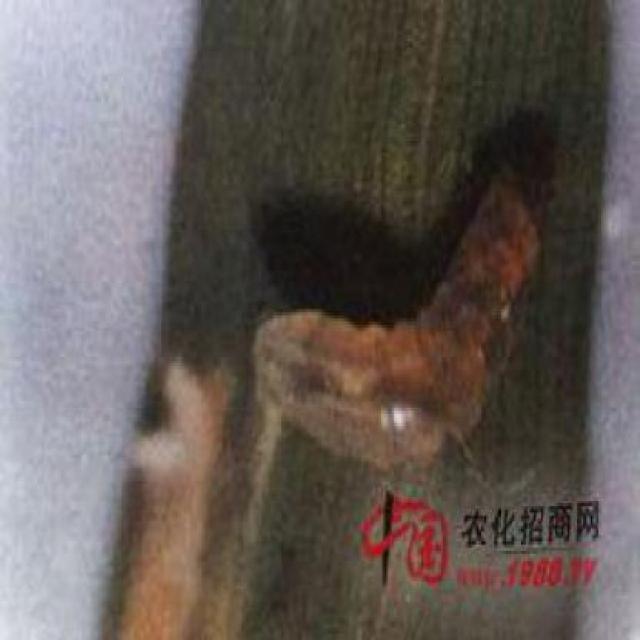whorl-maggot: (252, 154, 550, 481)
